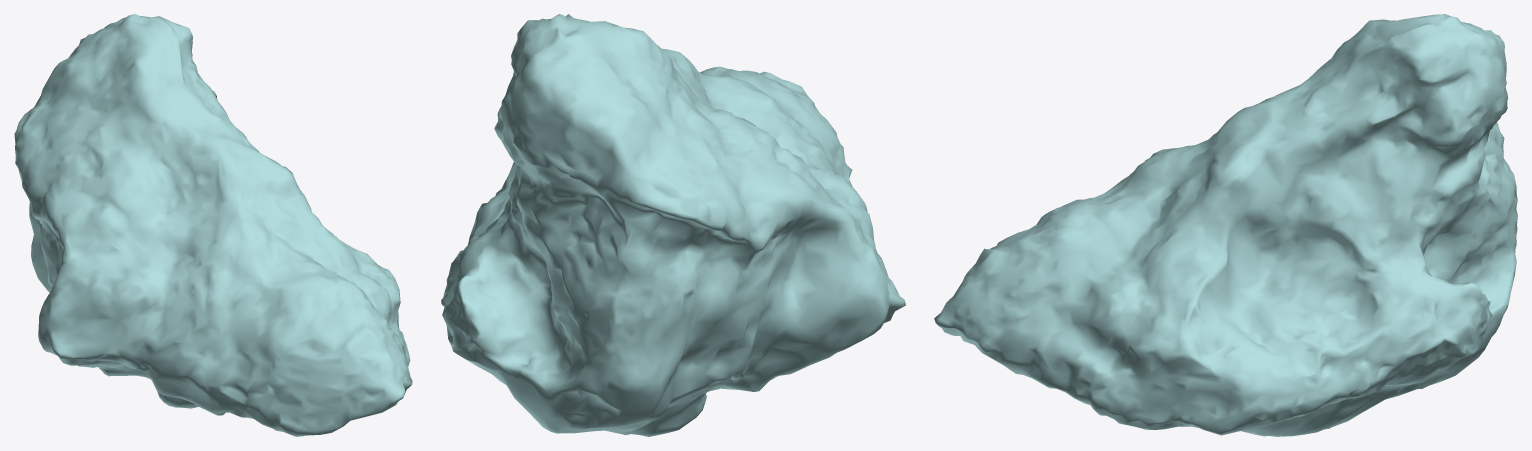
Rendered from ice6.fbx.
The picture shows the model from 3 angles, left to right: view 1: azimuth 30°, elevation 25°; view 2: azimuth 150°, elevation 25°; view 3: azimuth 270°, elevation 25°; orthographic projection. The views are drawn at different scales.
Parts seen in each view (by area): view 1: 1; view 2: 1; view 3: 1.
Part boxes in pixels (left/top/right/bottom): 1: left=14, top=14, right=412, bottom=436; 1: left=441, top=14, right=905, bottom=436; 1: left=934, top=14, right=1517, bottom=436.
Size of the model in its own units: 325 by 330 by 431.
